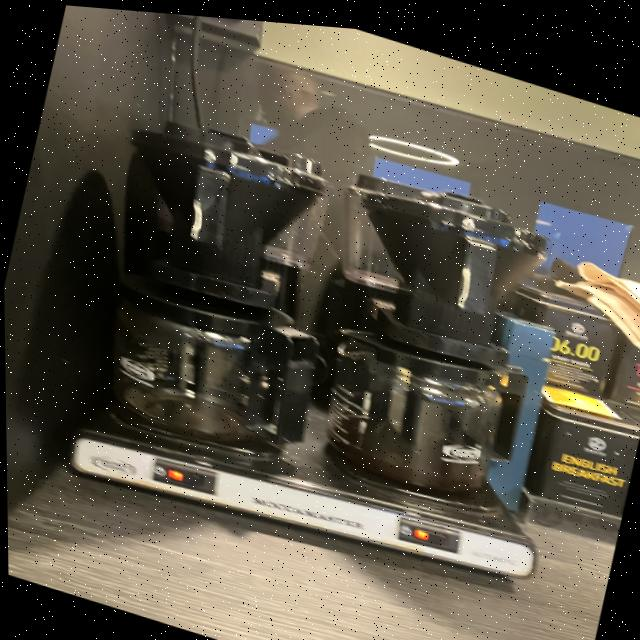coffee: (295, 304, 524, 511)
nocoffee: (71, 235, 324, 478)
